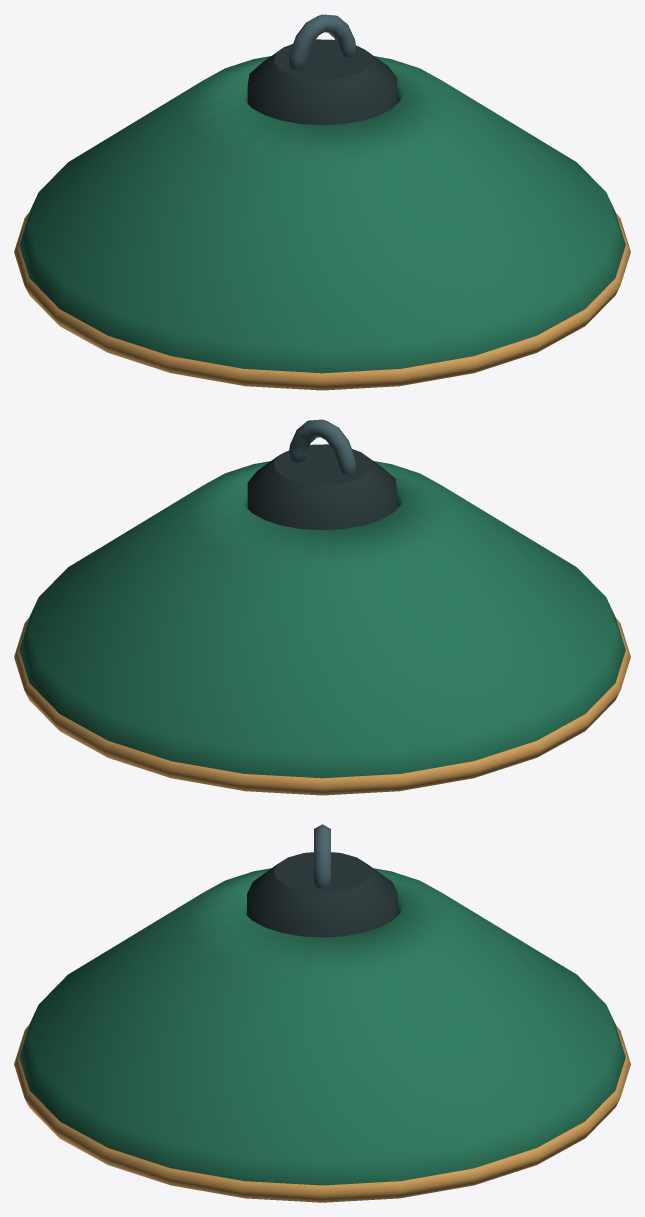
File: grow_lamp.glb
3 renders of one model, top to bottom at view 1: azimuth 30°, elevation 25°; view 2: azimuth 150°, elevation 25°; view 3: azimuth 270°, elevation 25°, orthographic.
Visible parts, largest first — view 1: Shade; view 2: Shade; view 3: Shade.
Boxes of the visible parts, box(x1,y1,x2,y2) form: Shade: box(14, 14, 630, 390); Shade: box(14, 419, 630, 795); Shade: box(14, 824, 630, 1202).
Size of the model in its own units: 0.506 by 0.258 by 0.506.
